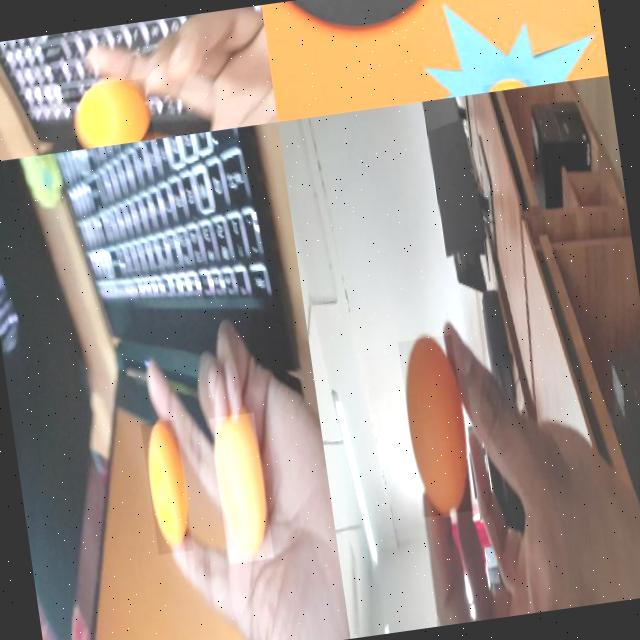ping-pong-ball: (396, 332, 476, 518), (208, 410, 274, 564), (139, 418, 193, 556), (66, 76, 154, 150)
